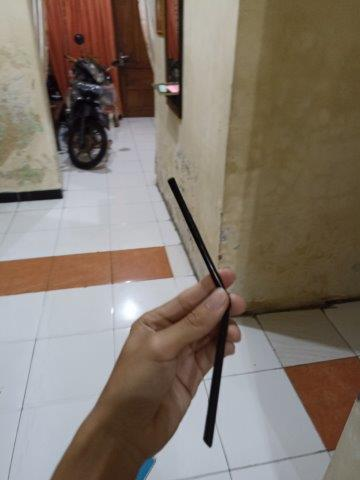sedotan: (167, 178, 230, 443)
